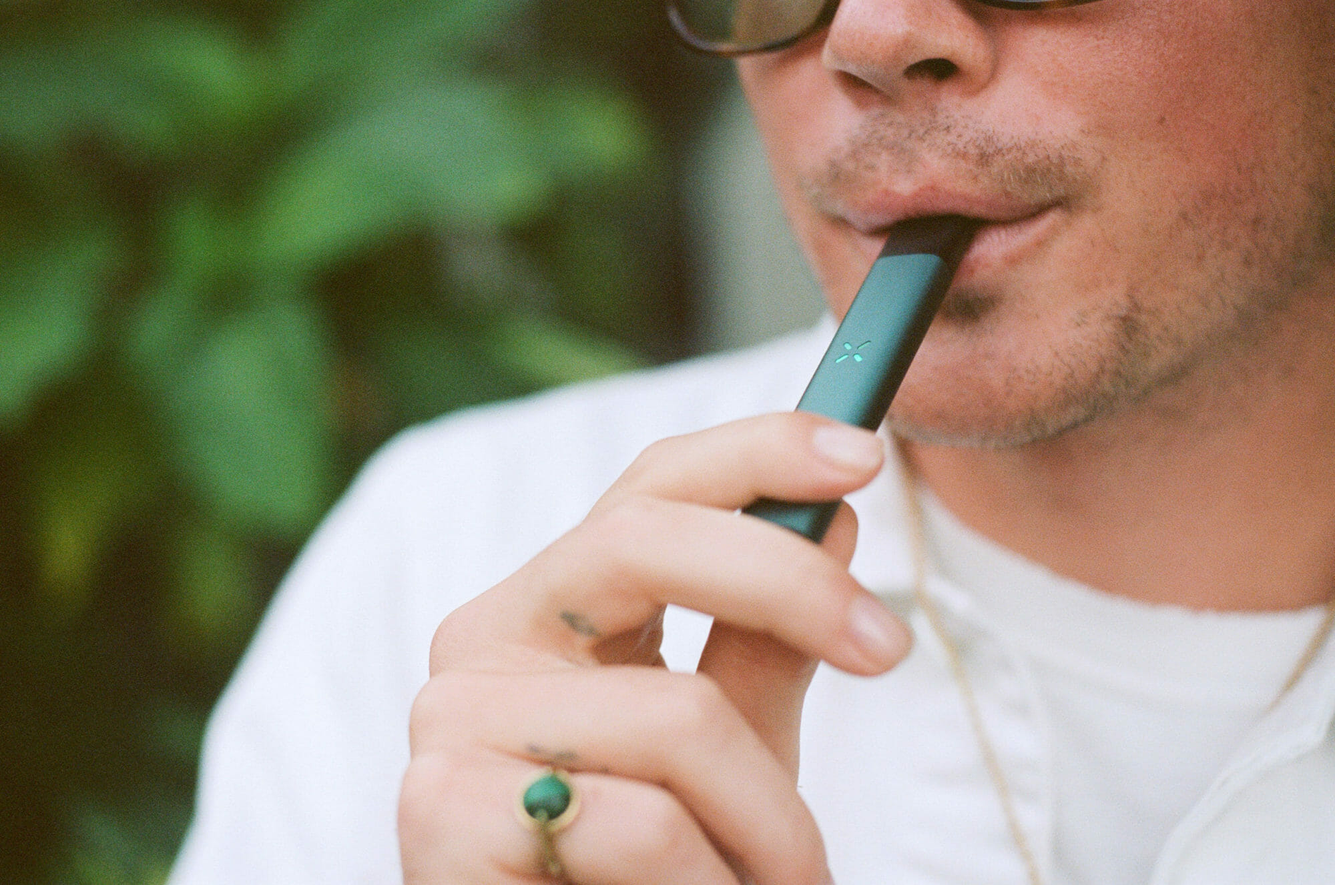weed_pen: (821, 150, 1003, 657)
